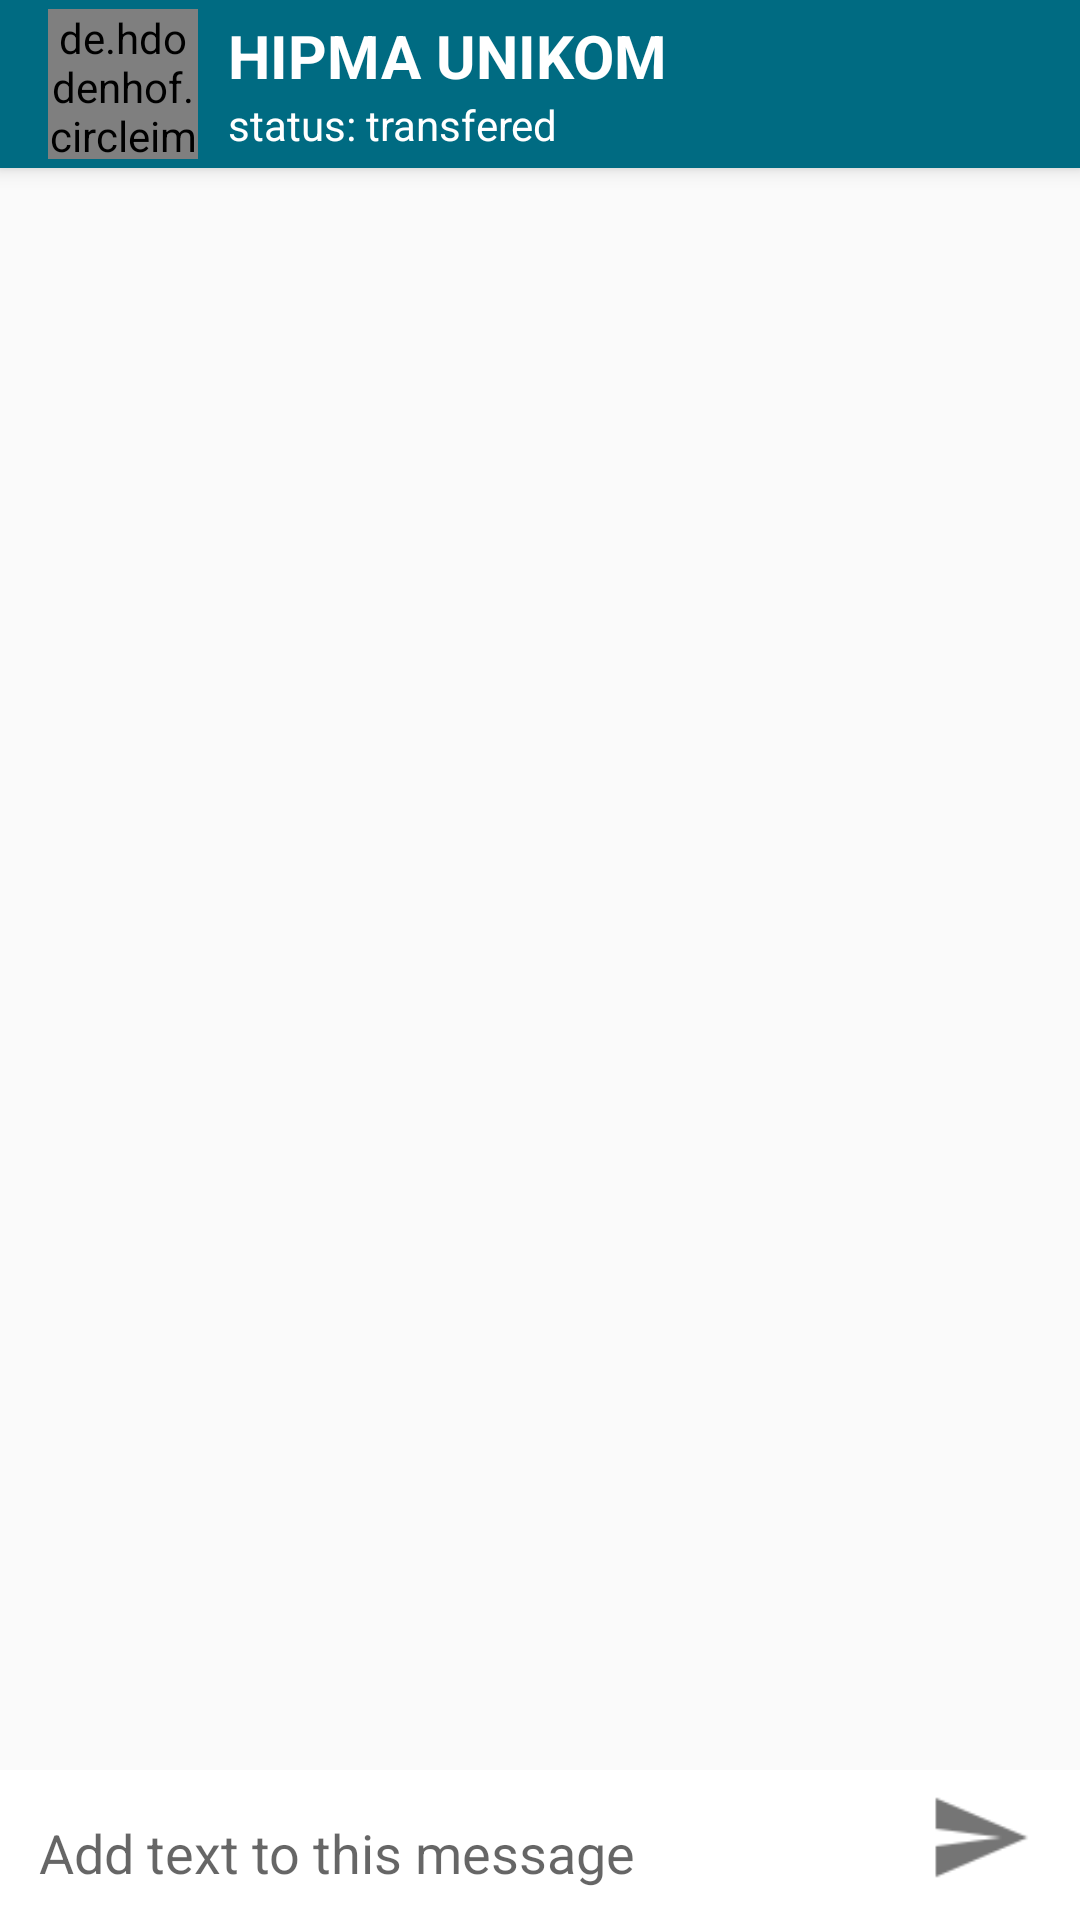

Screen size 1080px×1920px. Icon name, then its box in pixels as (x1, y1, x2, y2):
send: (935, 1798, 1027, 1877)
